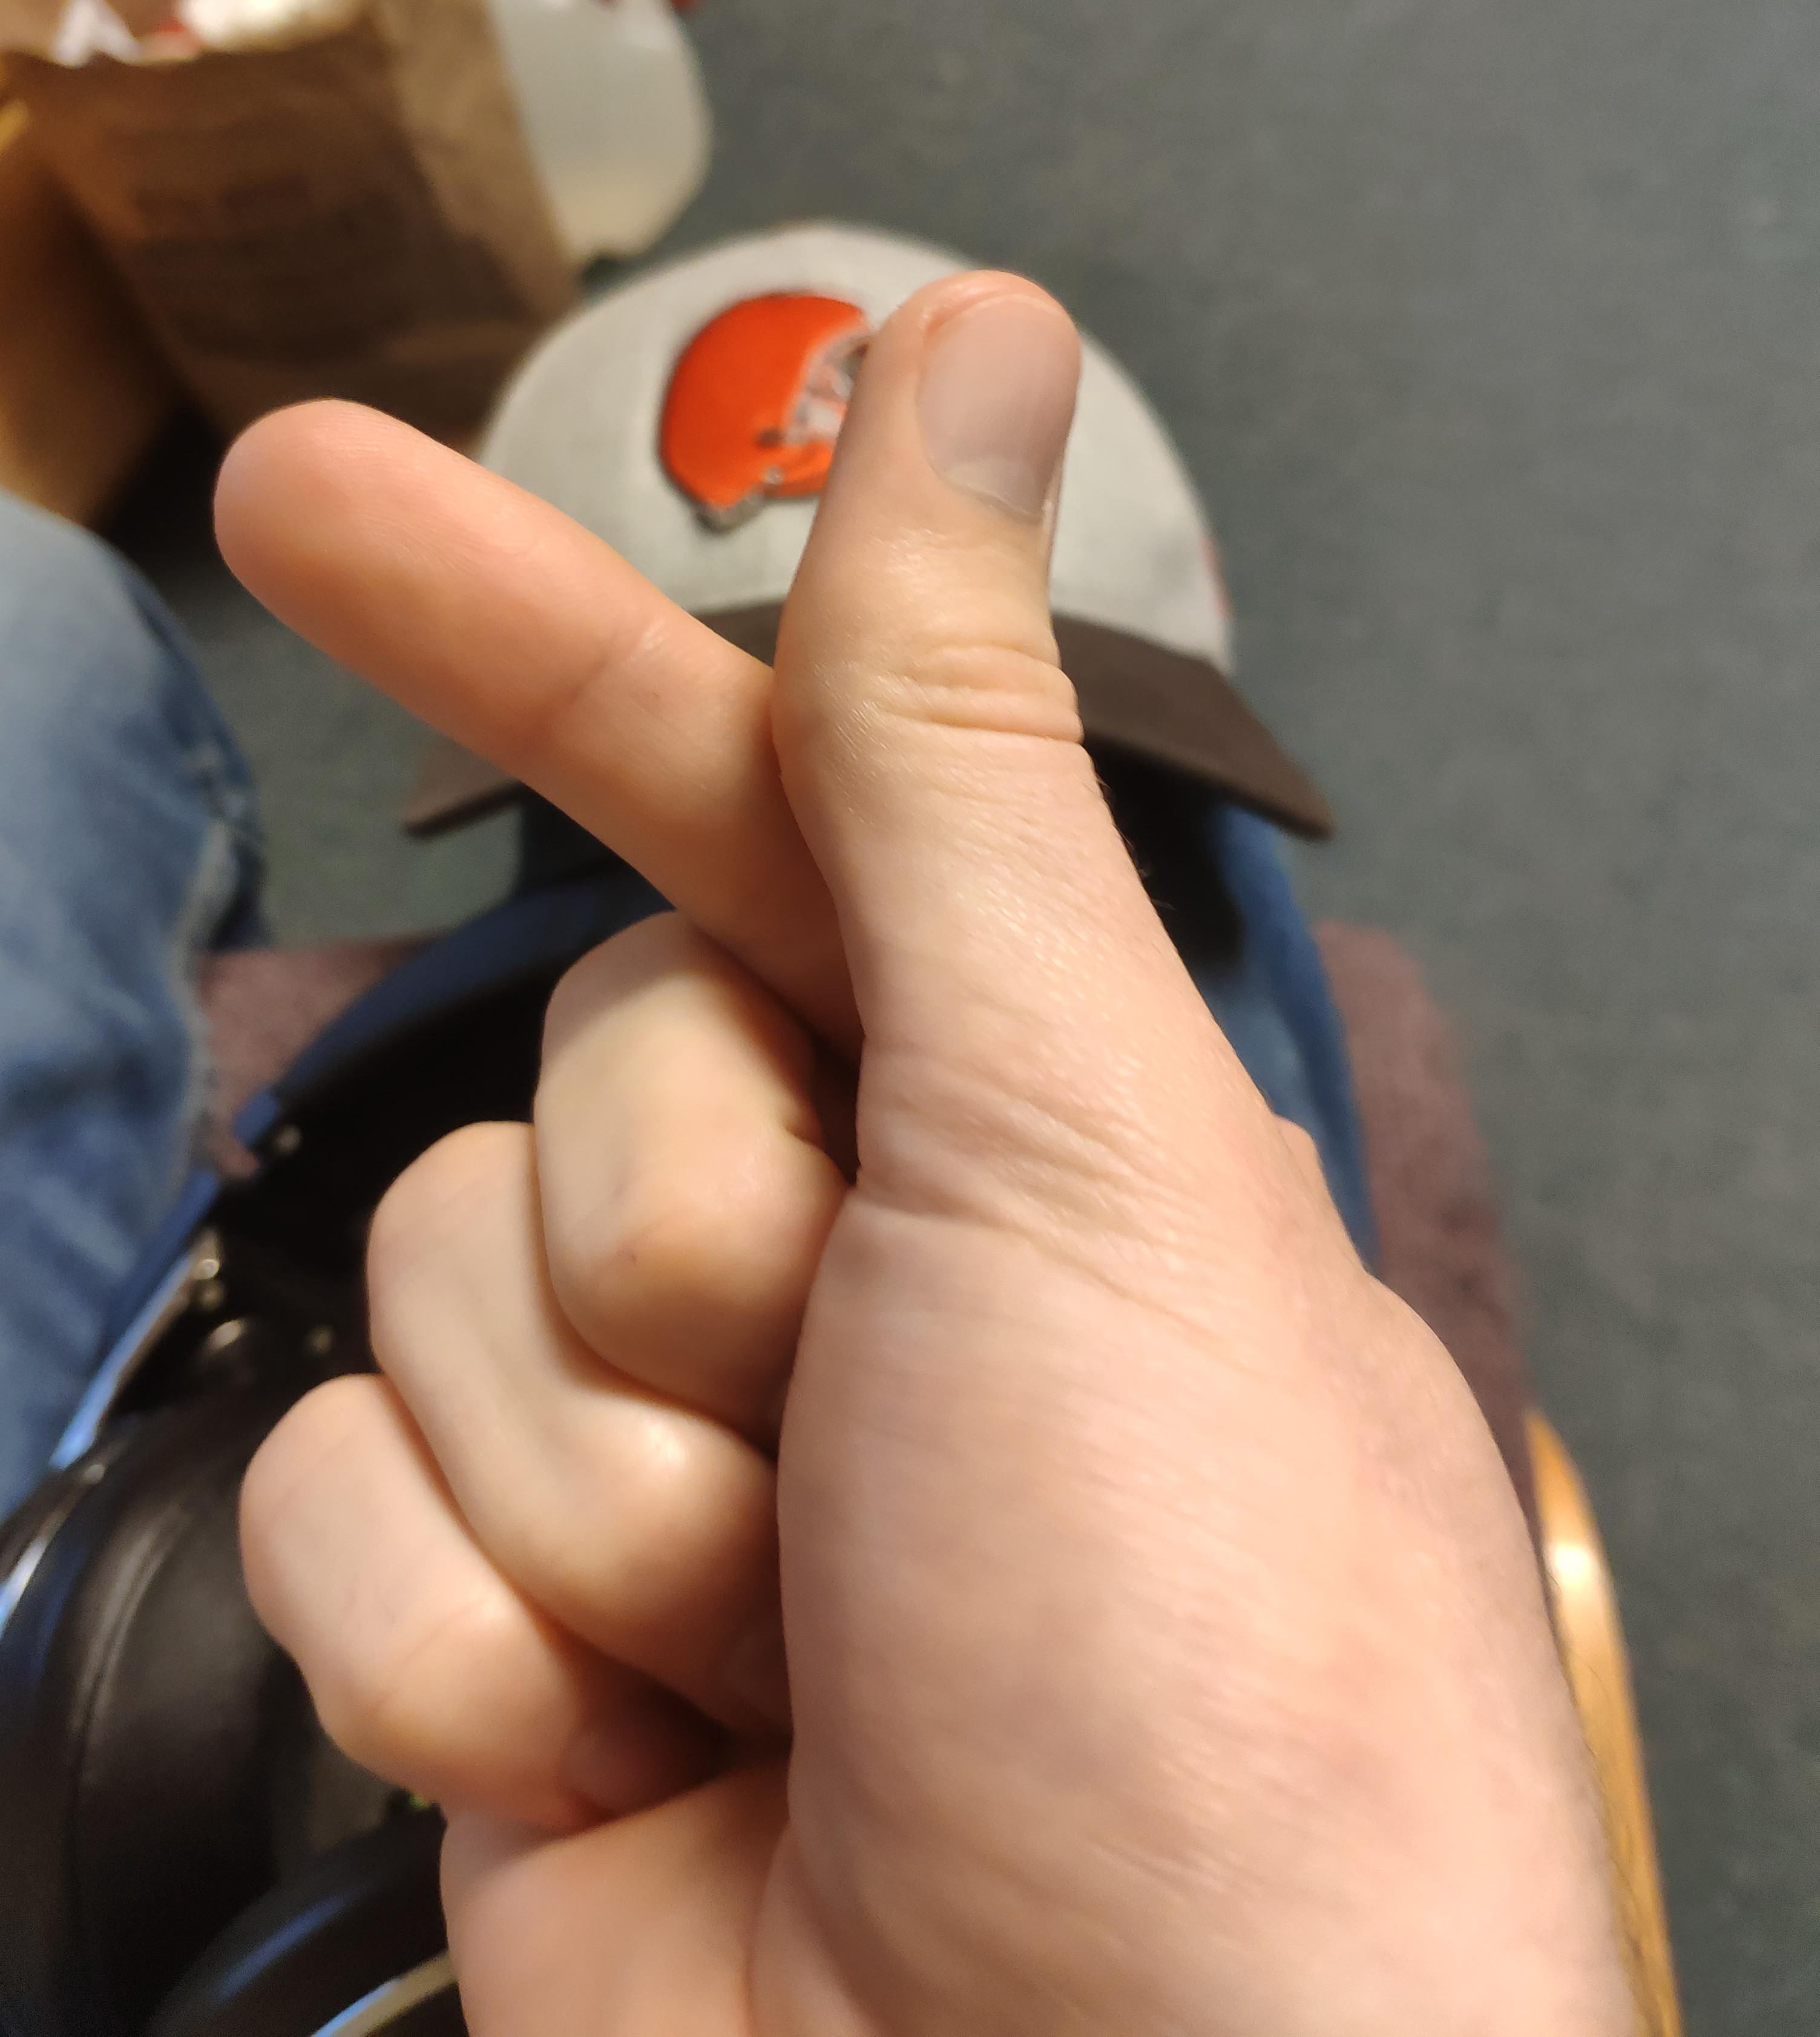heart gesture: (191, 251, 1103, 908)
